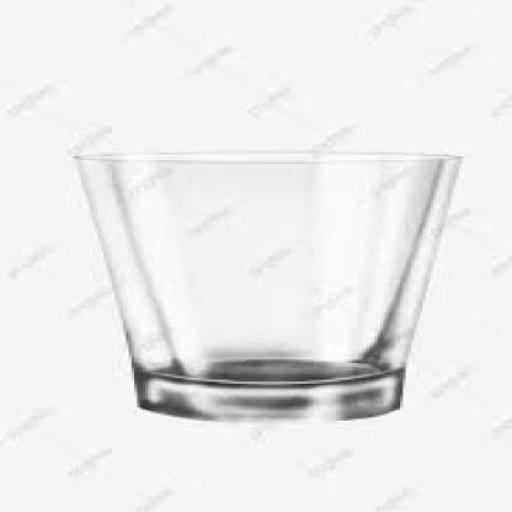glass: (73, 151, 459, 419)
